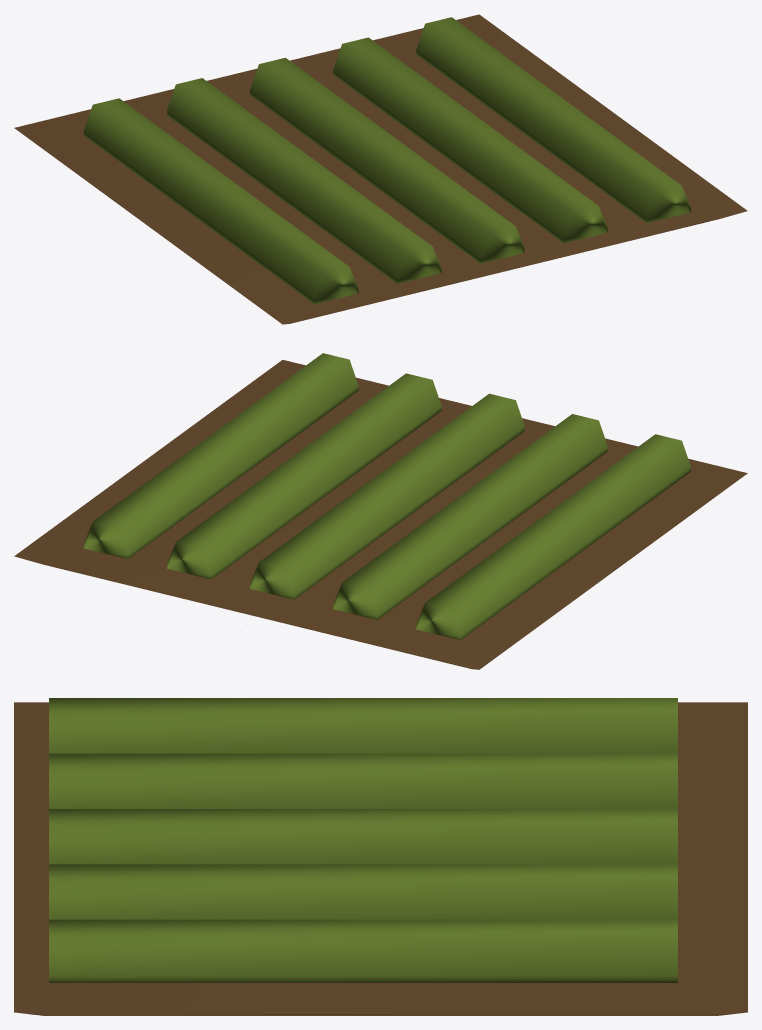
The model's file is R25_HAN_AGRICULTURE_DRY_FIELD_PRODUCTION_A.fbx.
The picture shows the model from 3 angles, top to bottom: view 1: azimuth 30°, elevation 25°; view 2: azimuth 150°, elevation 25°; view 3: azimuth 270°, elevation 25°; orthographic projection. The views are drawn at different scales.
Visible parts, largest first — view 1: soil, crop_3, crop_5, crop_1, crop_2, crop_4; view 2: soil, crop_2, crop_4, crop_3, crop_5, crop_1; view 3: soil, crop_1, crop_2, crop_3, crop_4, crop_5.
Part boxes in pixels (x1,y1,x2,y2): soil: (14,14,747,324); crop_3: (250,57,524,263); crop_5: (84,98,358,304); crop_1: (416,17,690,223); crop_2: (333,37,607,243); crop_4: (167,78,441,283); soil: (14,360,747,669); crop_2: (167,373,441,579); crop_4: (333,414,607,619); crop_3: (250,393,524,599); crop_5: (416,434,690,640); crop_1: (84,353,358,558); soil: (14,702,747,1015); crop_1: (49,919,677,982); crop_2: (49,864,677,919); crop_3: (49,809,677,864); crop_4: (49,753,677,808); crop_5: (49,698,677,753).
Bounding box in the file's own units: 84 × 7 × 84.
